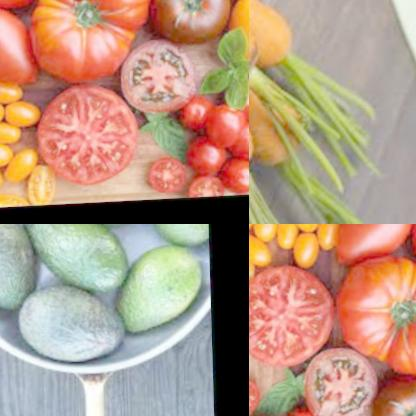avocado: (9, 280, 124, 372), (107, 249, 199, 346), (17, 224, 137, 298), (0, 224, 29, 321), (140, 224, 207, 262)
carrot: (249, 44, 310, 173), (249, 0, 308, 72)
tomato: (142, 63, 249, 201), (34, 81, 139, 188), (24, 0, 145, 90), (330, 252, 416, 376), (249, 264, 337, 372), (0, 76, 50, 211), (114, 38, 199, 117), (301, 344, 379, 416), (249, 224, 342, 283), (249, 373, 351, 416), (331, 224, 416, 266), (144, 0, 221, 45), (0, 0, 36, 89), (222, 0, 249, 76), (371, 373, 416, 416)
